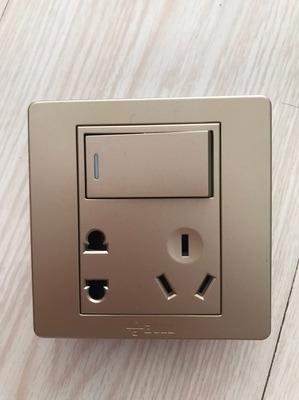switch: (82, 125, 215, 202)
